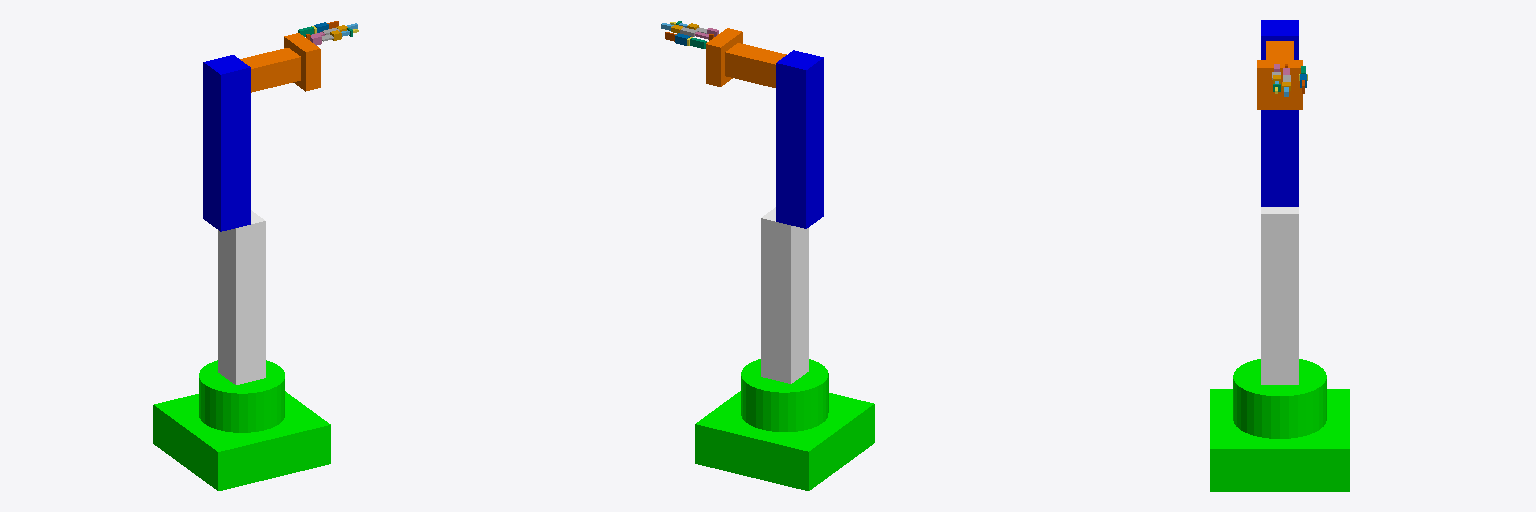
robot.urdf — robot:
<?xml version='1.0' encoding='utf-8'?>
<robot name="robot">
  <link name="base_link">
    <visual>
      <origin xyz="0 0 0.125" rpy="0 0 0" />
      <geometry>
        <box size="0.75 0.75 0.25" />
      </geometry>
      <material name="green" />
    </visual>
    <visual>
      <origin xyz="0 0 0.375" rpy="0 0 0" />
      <geometry>
        <cylinder length="0.25" radius="0.25" />
      </geometry>
      <material name="green">
        <color rgba="0 1 0 1" />
      </material>
    </visual>
    <collision>
      <geometry>
        <box size="0.75 0.75 0.5" />
      </geometry>
    </collision>
    <inertial>
      <mass value="0.5" />
      <inertia ixx="0.034" ixy="0.0" ixz="0.0" iyy="0.034" iyz="0.0" izz="0.034" />
    </inertial>
  </link>
  <link name="support_link">
    <visual>
      <origin xyz="0 0 0.5" rpy="0 0 0" />
      <geometry>
        <box size="0.2 0.2 1" />
      </geometry>
      <material name="white">
        <color rgba="1 1 1 1" />
      </material>
    </visual>
    <collision>
      <geometry>
        <box size="0.2 0.2 1" />
      </geometry>
    </collision>
    <inertial>
      <mass value="0.1" />
      <inertia ixx="0.01" ixy="0.0" ixz="0.0" iyy="0.01" iyz="0.0" izz="0.01" />
    </inertial>
  </link>
  <joint name="support_joint" type="continuous">
    <origin xyz="0 0 0.5" rpy="0 0 0" />
    <parent link="base_link" />
    <child link="support_link" />
    <axis xyz="0 0 1" />
  </joint>
  <link name="arm_link">
    <visual>
      <origin xyz="0 0 0.5" rpy="0 0 0" />
      <geometry>
        <box size="0.2 0.2 1" />
      </geometry>
      <material name="blue">
        <color rgba="0 0 1 1" />
      </material>
    </visual>
    <collision>
      <geometry>
        <box size="0.2 0.2 1" />
      </geometry>
    </collision>
    <inertial>
      <mass value="0.1" />
      <inertia ixx="0.01" ixy="0.0" ixz="0.0" iyy="0.01" iyz="0.0" izz="0.01" />
    </inertial>
  </link>
  <joint name="arm_joint" type="revolute">
    <origin xyz="-0.1 0 1" rpy="0 0 0" />
    <parent link="support_link" />
    <child link="arm_link" />
    <axis xyz="0 1 0" />
    <limit lower="-3.14" upper="3.14" effort="1.0" velocity="1.0" />
  </joint>
  <link name="wrist_link">
    <visual>
      <origin xyz="0 0 0.25" rpy="0 0 0" />
      <geometry>
        <box size="0.15 0.15 0.5" />
      </geometry>
      <material name="orange">
        <color rgba="1 0.5 0 1" />
      </material>
    </visual>
    <collision>
      <geometry>
        <box size="0.15 0.15 0.5" />
      </geometry>
    </collision>
    <inertial>
      <mass value="0.1" />
      <inertia ixx="0.01" ixy="0.0" ixz="0.0" iyy="0.01" iyz="0.0" izz="0.01" />
    </inertial>
  </link>
  <joint name="wrist_joint" type="fixed">
    <origin xyz="0 0 0.9" rpy="0 1.571 0" />
    <parent link="arm_link" />
    <child link="wrist_link" />
  </joint>
  <link name="palm_link">
    <visual>
      <origin xyz="0 0 0.05" rpy="0 0 0" />
      <geometry>
        <box size="0.25 0.25 0.1" />
      </geometry>
      <material name="orange" />
    </visual>
    <collision>
      <geometry>
        <box size="0.25 0.25 0.1" />
      </geometry>
    </collision>
    <inertial>
      <mass value="0.1" />
      <inertia ixx="0.01" ixy="0.0" ixz="0.0" iyy="0.01" iyz="0.0" izz="0.01" />
    </inertial>
  </link>
  <joint name="palm_joint" type="fixed">
    <origin xyz="0 0 0.45" rpy="0 0 0" />
    <parent link="wrist_link" />
    <child link="palm_link" />
  </joint>
  <link name="finger_link_0_0">
    <visual>
      <origin xyz="0 0 0.0115" rpy="0 0 0" />
      <geometry>
        <box size="0.042 0.018 0.023" />
      </geometry>
    </visual>
    <collision>
      <geometry>
        <box size="0.042 0.018 0.023" />
      </geometry>
    </collision>
    <inertial>
      <mass value="0.005" />
      <inertia ixx="0.0" iyy="0.0" izz="0.0" ixy="0" ixz="0" iyz="0" />
    </inertial>
  </link>
  <joint name="finger_joint_palm_link_to_finger_link_0_0" type="revolute">
    <origin xyz="-0.125 0.035 0.1" rpy="0 0 0" />
    <parent link="palm_link" />
    <child link="finger_link_0_0" />
    <axis xyz="1.0 1.0 0.0" />
    <limit lower="-3.142" upper="3.142" effort="10" velocity="10" />
  </joint>
  <link name="finger_link_0_1">
    <visual>
      <origin xyz="0 0 0.0455" rpy="0 0 0" />
      <geometry>
        <box size="0.016 0.033 0.091" />
      </geometry>
    </visual>
    <collision>
      <geometry>
        <box size="0.016 0.033 0.091" />
      </geometry>
    </collision>
    <inertial>
      <mass value="0.014" />
      <inertia ixx="0.0" iyy="0.0" izz="0.0" ixy="0" ixz="0" iyz="0" />
    </inertial>
  </link>
  <joint name="finger_joint_finger_link_0_0_to_finger_link_0_1" type="revolute">
    <origin xyz="0.0 0.0 0.023" rpy="0 0 0" />
    <parent link="finger_link_0_0" />
    <child link="finger_link_0_1" />
    <axis xyz="0.0 1.0 0.0" />
    <limit lower="-3.142" upper="3.142" effort="10" velocity="10" />
  </joint>
  <link name="finger_link_0_2">
    <visual>
      <origin xyz="0 0 0.0465" rpy="0 0 0" />
      <geometry>
        <box size="0.025 0.042 0.093" />
      </geometry>
    </visual>
    <collision>
      <geometry>
        <box size="0.025 0.042 0.093" />
      </geometry>
    </collision>
    <inertial>
      <mass value="0.029" />
      <inertia ixx="0.0" iyy="0.0" izz="0.0" ixy="0" ixz="0" iyz="0" />
    </inertial>
  </link>
  <joint name="finger_joint_finger_link_0_1_to_finger_link_0_2" type="revolute">
    <origin xyz="0.0 0.0 0.091" rpy="0 0 0" />
    <parent link="finger_link_0_1" />
    <child link="finger_link_0_2" />
    <axis xyz="1.0 0.0 0.0" />
    <limit lower="-3.142" upper="3.142" effort="10" velocity="10" />
  </joint>
  <link name="finger_link_0_3">
    <visual>
      <origin xyz="0 0 0.0295" rpy="0 0 0" />
      <geometry>
        <box size="0.029 0.046 0.059" />
      </geometry>
    </visual>
    <collision>
      <geometry>
        <box size="0.029 0.046 0.059" />
      </geometry>
    </collision>
    <inertial>
      <mass value="0.024" />
      <inertia ixx="0.0" iyy="0.0" izz="0.0" ixy="0" ixz="0" iyz="0" />
    </inertial>
  </link>
  <joint name="finger_joint_finger_link_0_2_to_finger_link_0_3" type="revolute">
    <origin xyz="0.0 0.0 0.093" rpy="0 0 0" />
    <parent link="finger_link_0_2" />
    <child link="finger_link_0_3" />
    <axis xyz="0.0 1.0 0.0" />
    <limit lower="-3.142" upper="3.142" effort="10" velocity="10" />
  </joint>
  <link name="finger_link_0_4">
    <visual>
      <origin xyz="0 0 0.035" rpy="0 0 0" />
      <geometry>
        <box size="0.028 0.024 0.07" />
      </geometry>
    </visual>
    <collision>
      <geometry>
        <box size="0.028 0.024 0.07" />
      </geometry>
    </collision>
    <inertial>
      <mass value="0.014" />
      <inertia ixx="0.0" iyy="0.0" izz="0.0" ixy="0" ixz="0" iyz="0" />
    </inertial>
  </link>
  <joint name="finger_joint_finger_link_0_3_to_finger_link_0_4" type="revolute">
    <origin xyz="0.0 0.0 0.059" rpy="0 0 0" />
    <parent link="finger_link_0_3" />
    <child link="finger_link_0_4" />
    <axis xyz="0.0 1.0 0.0" />
    <limit lower="-3.142" upper="3.142" effort="10" velocity="10" />
  </joint>
  <link name="finger_link_1_0">
    <visual>
      <origin xyz="0 0 0.0475" rpy="0 0 0" />
      <geometry>
        <box size="0.043 0.025 0.095" />
      </geometry>
    </visual>
    <collision>
      <geometry>
        <box size="0.043 0.025 0.095" />
      </geometry>
    </collision>
    <inertial>
      <mass value="0.031" />
      <inertia ixx="0.0" iyy="0.0" izz="0.0" ixy="0" ixz="0" iyz="0" />
    </inertial>
  </link>
  <joint name="finger_joint_palm_link_to_finger_link_1_0" type="revolute">
    <origin xyz="-0.117 0.125 0.1" rpy="0 0 0" />
    <parent link="palm_link" />
    <child link="finger_link_1_0" />
    <axis xyz="1.0 1.0 0.0" />
    <limit lower="-3.142" upper="3.142" effort="10" velocity="10" />
  </joint>
  <link name="finger_link_1_1">
    <visual>
      <origin xyz="0 0 0.0075" rpy="0 0 0" />
      <geometry>
        <box size="0.037 0.043 0.015" />
      </geometry>
    </visual>
    <collision>
      <geometry>
        <box size="0.037 0.043 0.015" />
      </geometry>
    </collision>
    <inertial>
      <mass value="0.007" />
      <inertia ixx="0.0" iyy="0.0" izz="0.0" ixy="0" ixz="0" iyz="0" />
    </inertial>
  </link>
  <joint name="finger_joint_finger_link_1_0_to_finger_link_1_1" type="revolute">
    <origin xyz="0.0 0.0 0.095" rpy="0 0 0" />
    <parent link="finger_link_1_0" />
    <child link="finger_link_1_1" />
    <axis xyz="1.0 1.0 0.0" />
    <limit lower="-3.142" upper="3.142" effort="10" velocity="10" />
  </joint>
  <link name="finger_link_1_2">
    <visual>
      <origin xyz="0 0 0.0395" rpy="0 0 0" />
      <geometry>
        <box size="0.047 0.041 0.079" />
      </geometry>
    </visual>
    <collision>
      <geometry>
        <box size="0.047 0.041 0.079" />
      </geometry>
    </collision>
    <inertial>
      <mass value="0.046" />
      <inertia ixx="0.0" iyy="0.0" izz="0.0" ixy="0" ixz="0" iyz="0" />
    </inertial>
  </link>
  <joint name="finger_joint_finger_link_1_1_to_finger_link_1_2" type="revolute">
    <origin xyz="0.0 0.0 0.015" rpy="0 0 0" />
    <parent link="finger_link_1_1" />
    <child link="finger_link_1_2" />
    <axis xyz="1.0 0.0 0.0" />
    <limit lower="-3.142" upper="3.142" effort="10" velocity="10" />
  </joint>
  <link name="finger_link_1_3">
    <visual>
      <origin xyz="0 0 0.038" rpy="0 0 0" />
      <geometry>
        <box size="0.044 0.011 0.076" />
      </geometry>
    </visual>
    <collision>
      <geometry>
        <box size="0.044 0.011 0.076" />
      </geometry>
    </collision>
    <inertial>
      <mass value="0.011" />
      <inertia ixx="0.0" iyy="0.0" izz="0.0" ixy="0" ixz="0" iyz="0" />
    </inertial>
  </link>
  <joint name="finger_joint_finger_link_1_2_to_finger_link_1_3" type="revolute">
    <origin xyz="0.0 0.0 0.079" rpy="0 0 0" />
    <parent link="finger_link_1_2" />
    <child link="finger_link_1_3" />
    <axis xyz="1.0 1.0 0.0" />
    <limit lower="-3.142" upper="3.142" effort="10" velocity="10" />
  </joint>
  <link name="finger_link_2_0">
    <visual>
      <origin xyz="0 0 0.0325" rpy="0 0 0" />
      <geometry>
        <box size="0.049 0.03 0.065" />
      </geometry>
    </visual>
    <collision>
      <geometry>
        <box size="0.049 0.03 0.065" />
      </geometry>
    </collision>
    <inertial>
      <mass value="0.029" />
      <inertia ixx="0.0" iyy="0.0" izz="0.0" ixy="0" ixz="0" iyz="0" />
    </inertial>
  </link>
  <joint name="finger_joint_palm_link_to_finger_link_2_0" type="revolute">
    <origin xyz="-0.125 -0.017 0.1" rpy="0 0 0" />
    <parent link="palm_link" />
    <child link="finger_link_2_0" />
    <axis xyz="1.0 0.0 0.0" />
    <limit lower="-3.142" upper="3.142" effort="10" velocity="10" />
  </joint>
  <link name="finger_link_2_1">
    <visual>
      <origin xyz="0 0 0.037" rpy="0 0 0" />
      <geometry>
        <box size="0.011 0.049 0.074" />
      </geometry>
    </visual>
    <collision>
      <geometry>
        <box size="0.011 0.049 0.074" />
      </geometry>
    </collision>
    <inertial>
      <mass value="0.012" />
      <inertia ixx="0.0" iyy="0.0" izz="0.0" ixy="0" ixz="0" iyz="0" />
    </inertial>
  </link>
  <joint name="finger_joint_finger_link_2_0_to_finger_link_2_1" type="revolute">
    <origin xyz="0.0 0.0 0.065" rpy="0 0 0" />
    <parent link="finger_link_2_0" />
    <child link="finger_link_2_1" />
    <axis xyz="0.0 1.0 0.0" />
    <limit lower="-3.142" upper="3.142" effort="10" velocity="10" />
  </joint>
  <link name="finger_link_2_2">
    <visual>
      <origin xyz="0 0 0.025" rpy="0 0 0" />
      <geometry>
        <box size="0.041 0.044 0.05" />
      </geometry>
    </visual>
    <collision>
      <geometry>
        <box size="0.041 0.044 0.05" />
      </geometry>
    </collision>
    <inertial>
      <mass value="0.027" />
      <inertia ixx="0.0" iyy="0.0" izz="0.0" ixy="0" ixz="0" iyz="0" />
    </inertial>
  </link>
  <joint name="finger_joint_finger_link_2_1_to_finger_link_2_2" type="revolute">
    <origin xyz="0.0 0.0 0.074" rpy="0 0 0" />
    <parent link="finger_link_2_1" />
    <child link="finger_link_2_2" />
    <axis xyz="0.0 1.0 0.0" />
    <limit lower="-3.142" upper="3.142" effort="10" velocity="10" />
  </joint>
  <link name="finger_link_2_3">
    <visual>
      <origin xyz="0 0 0.031" rpy="0 0 0" />
      <geometry>
        <box size="0.021 0.023 0.062" />
      </geometry>
    </visual>
    <collision>
      <geometry>
        <box size="0.021 0.023 0.062" />
      </geometry>
    </collision>
    <inertial>
      <mass value="0.009" />
      <inertia ixx="0.0" iyy="0.0" izz="0.0" ixy="0" ixz="0" iyz="0" />
    </inertial>
  </link>
  <joint name="finger_joint_finger_link_2_2_to_finger_link_2_3" type="revolute">
    <origin xyz="0.0 0.0 0.05" rpy="0 0 0" />
    <parent link="finger_link_2_2" />
    <child link="finger_link_2_3" />
    <axis xyz="0.0 1.0 0.0" />
    <limit lower="-3.142" upper="3.142" effort="10" velocity="10" />
  </joint>
  <link name="finger_link_2_4">
    <visual>
      <origin xyz="0 0 0.0065" rpy="0 0 0" />
      <geometry>
        <box size="0.04 0.043 0.013" />
      </geometry>
    </visual>
    <collision>
      <geometry>
        <box size="0.04 0.043 0.013" />
      </geometry>
    </collision>
    <inertial>
      <mass value="0.007" />
      <inertia ixx="0.0" iyy="0.0" izz="0.0" ixy="0" ixz="0" iyz="0" />
    </inertial>
  </link>
  <joint name="finger_joint_finger_link_2_3_to_finger_link_2_4" type="revolute">
    <origin xyz="0.0 0.0 0.062" rpy="0 0 0" />
    <parent link="finger_link_2_3" />
    <child link="finger_link_2_4" />
    <axis xyz="0.0 1.0 0.0" />
    <limit lower="-3.142" upper="3.142" effort="10" velocity="10" />
  </joint>
  <link name="finger_link_2_5">
    <visual>
      <origin xyz="0 0 0.0235" rpy="0 0 0" />
      <geometry>
        <box size="0.016 0.017 0.047" />
      </geometry>
    </visual>
    <collision>
      <geometry>
        <box size="0.016 0.017 0.047" />
      </geometry>
    </collision>
    <inertial>
      <mass value="0.004" />
      <inertia ixx="0.0" iyy="0.0" izz="0.0" ixy="0" ixz="0" iyz="0" />
    </inertial>
  </link>
  <joint name="finger_joint_finger_link_2_4_to_finger_link_2_5" type="revolute">
    <origin xyz="0.0 0.0 0.013" rpy="0 0 0" />
    <parent link="finger_link_2_4" />
    <child link="finger_link_2_5" />
    <axis xyz="1.0 0.0 0.0" />
    <limit lower="-3.142" upper="3.142" effort="10" velocity="10" />
  </joint>
</robot>

--- Render facts (derived) ---
3 views of the same robot in one strip: view 1: azimuth 30°, elevation 25°; view 2: azimuth 150°, elevation 25°; view 3: azimuth 270°, elevation 25° (orthographic).
Robot: robot — 20 links, 19 joints (16 revolute, 1 continuous, 2 fixed); root link base_link; default pose: every joint at zero.
Visible links, largest first — view 1: base_link, arm_link, support_link, wrist_link, palm_link; view 2: base_link, arm_link, support_link, wrist_link, palm_link; view 3: base_link, support_link, arm_link, palm_link, wrist_link.
Link boxes in pixels (box(x1,y1,x2,y2)): base_link: box(153, 360, 330, 490); arm_link: box(203, 55, 250, 231); support_link: box(218, 210, 265, 384); wrist_link: box(240, 48, 300, 92); palm_link: box(284, 33, 320, 91); base_link: box(695, 359, 874, 490); arm_link: box(776, 50, 823, 228); support_link: box(761, 207, 808, 383); wrist_link: box(725, 43, 786, 87); palm_link: box(706, 28, 742, 86); base_link: box(1210, 359, 1349, 491); support_link: box(1261, 207, 1298, 384); arm_link: box(1261, 20, 1298, 206); palm_link: box(1257, 60, 1302, 109); wrist_link: box(1266, 41, 1293, 59).
Bounding box of the posed robot: 1.16 × 0.75 × 2.55 m (x, y, z).
Geometry: primitives only (box / cylinder / sphere), no mesh files.